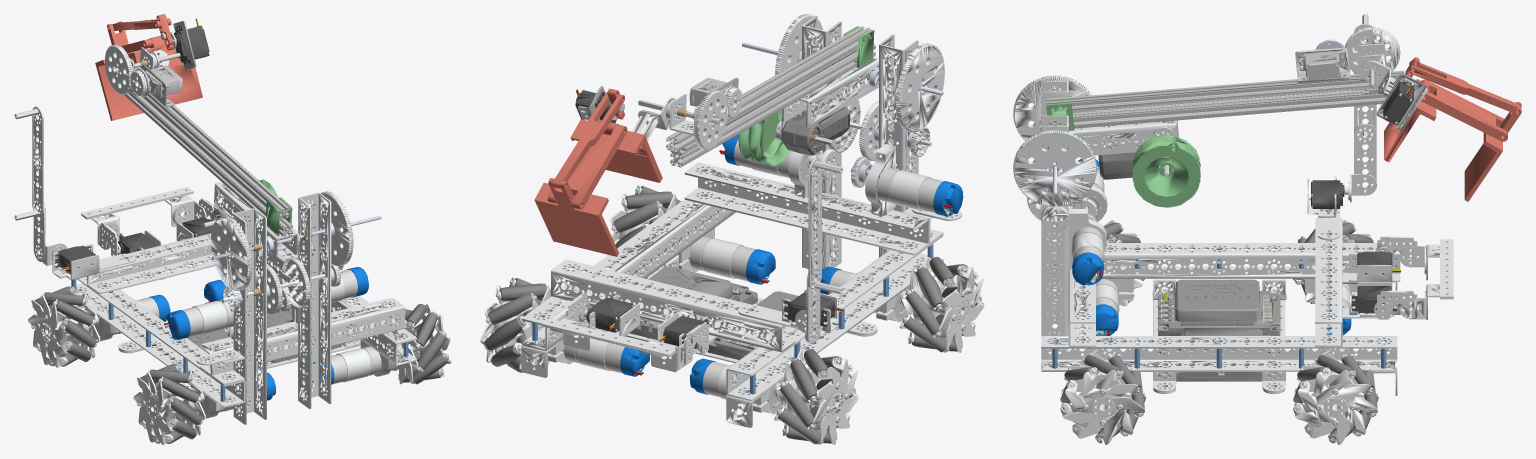
The model's file is sez4.glb.
3 renders of one model, left to right at view 1: azimuth 30°, elevation 25°; view 2: azimuth 150°, elevation 25°; view 3: azimuth 270°, elevation 25°, orthographic. The views are drawn at different scales.
Visible parts, largest first — view 1: Body1.148; view 2: Body1.148; view 3: Body1.148.
Part boxes in pixels (bbox=[...]): Body1.148: bbox=[14, 14, 451, 444]; Body1.148: bbox=[480, 14, 984, 444]; Body1.148: bbox=[1013, 14, 1521, 444].
Size of the model in its own units: 44.57 by 41.01 by 59.41.
